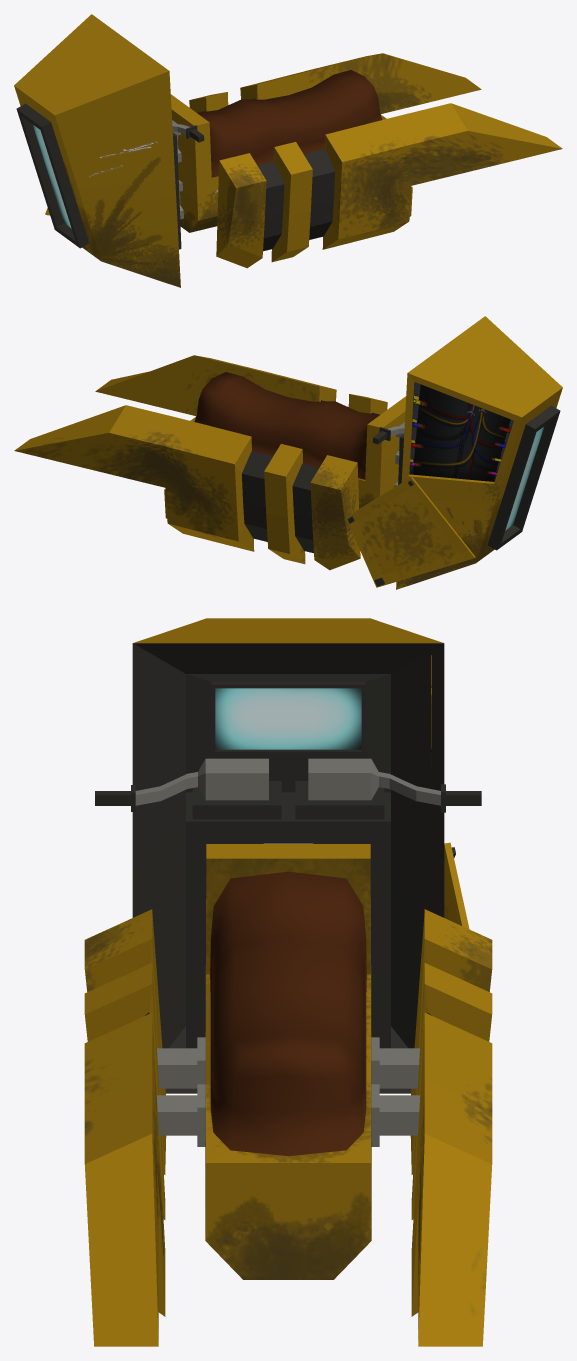
Rendered from moto 2.fbx.
The picture shows the model from 3 angles, top to bottom: view 1: azimuth 30°, elevation 25°; view 2: azimuth 150°, elevation 25°; view 3: azimuth 270°, elevation 25°; orthographic projection. The views are drawn at different scales.
Visible parts, largest first — view 1: Cube.001; view 2: Cube.001; view 3: Cube.001.
Boxes of the visible parts, x1,y1,x2,y2 form: Cube.001: (14, 14, 562, 287); Cube.001: (14, 316, 562, 589); Cube.001: (84, 618, 492, 1346).
Bounding box in the file's own units: 720 × 318 × 262.
